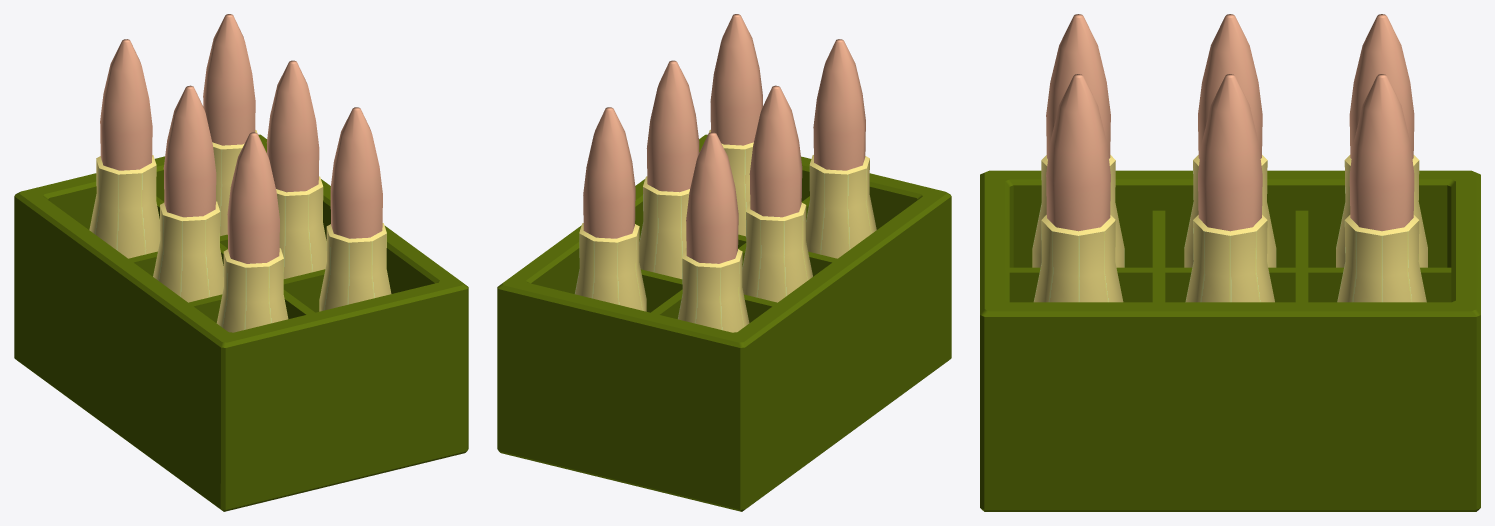
File: ammoPack.glb
3 views of the same model, side by side, from view 1: azimuth 30°, elevation 25°; view 2: azimuth 150°, elevation 25°; view 3: azimuth 270°, elevation 25° (orthographic). The views are drawn at different scales.
Parts seen in each view (by area): view 1: ammoPack; view 2: ammoPack; view 3: ammoPack.
Boxes of the visible parts, bbox=[...] form: ammoPack: bbox=[14, 14, 468, 511]; ammoPack: bbox=[497, 14, 951, 511]; ammoPack: bbox=[980, 14, 1480, 511].
Size of the model in its own units: 0.2967 by 0.3799 by 0.4357.
Materials: 1 (1 with a texture image).
